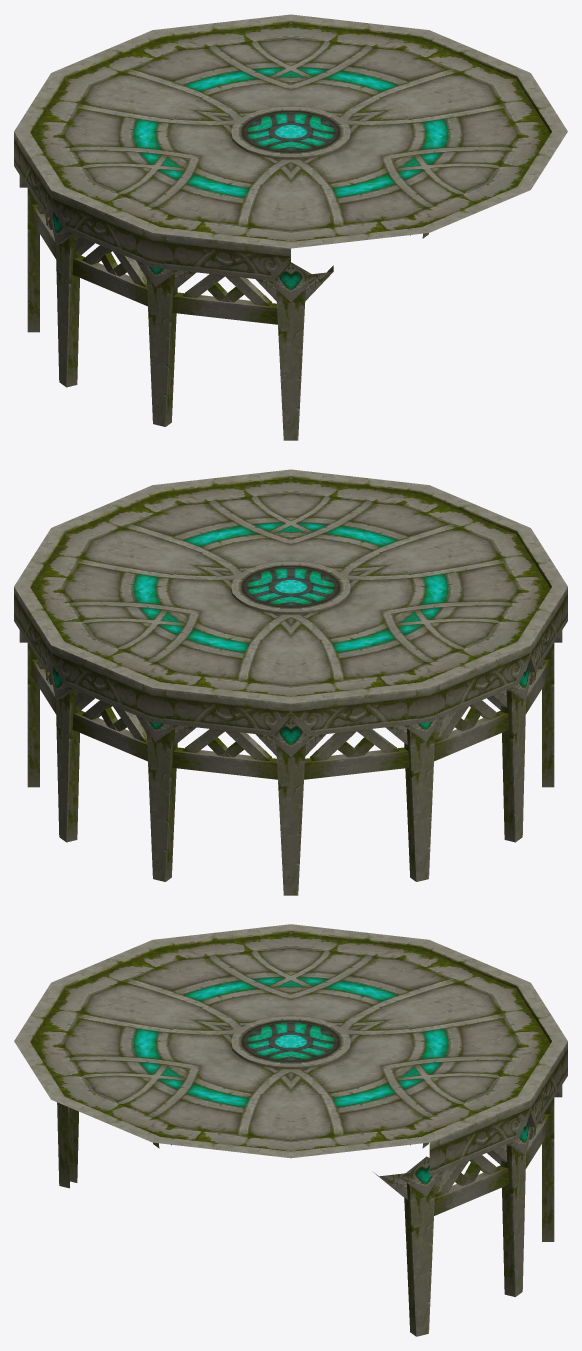
File: building_city_jinglingjianzhu09.FBX
3 views of the same model, one above another, from view 1: azimuth 30°, elevation 25°; view 2: azimuth 150°, elevation 25°; view 3: azimuth 270°, elevation 25° (orthographic).
Visible parts, largest first — view 1: building_city_jinglingjianzhu09; view 2: building_city_jinglingjianzhu09; view 3: building_city_jinglingjianzhu09.
Part boxes in pixels (bbox=[...]): building_city_jinglingjianzhu09: bbox=[14, 14, 567, 440]; building_city_jinglingjianzhu09: bbox=[14, 469, 567, 895]; building_city_jinglingjianzhu09: bbox=[14, 924, 567, 1336].
Bounding box in the file's own units: 41.17 × 16.21 × 41.17.
